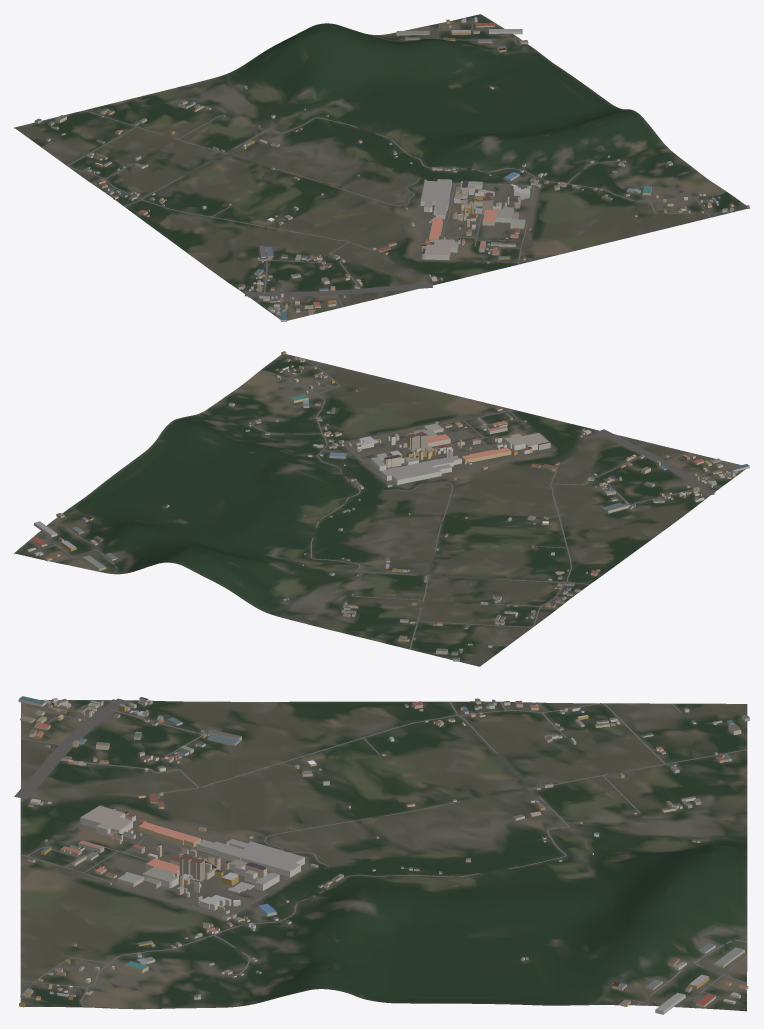
3 renders of one model, top to bottom at view 1: azimuth 30°, elevation 25°; view 2: azimuth 150°, elevation 25°; view 3: azimuth 270°, elevation 25°, orthographic. The views are drawn at different scales.
Parts seen in each view (by area): view 1: ground, buildings, roads; view 2: ground, buildings, roads; view 3: ground, buildings, roads.
Part boxes in pixels (<box>): ground: <box>14,14,747,320</box>; buildings: <box>34,17,749,321</box>; roads: <box>42,19,734,307</box>; ground: <box>14,354,745,666</box>; buildings: <box>27,351,749,661</box>; roads: <box>31,357,715,649</box>; ground: <box>20,700,747,1011</box>; buildings: <box>18,696,749,1014</box>; roads: <box>14,698,747,1007</box>.
Size of the model in its own units: 1442 by 96.3 by 1420.
